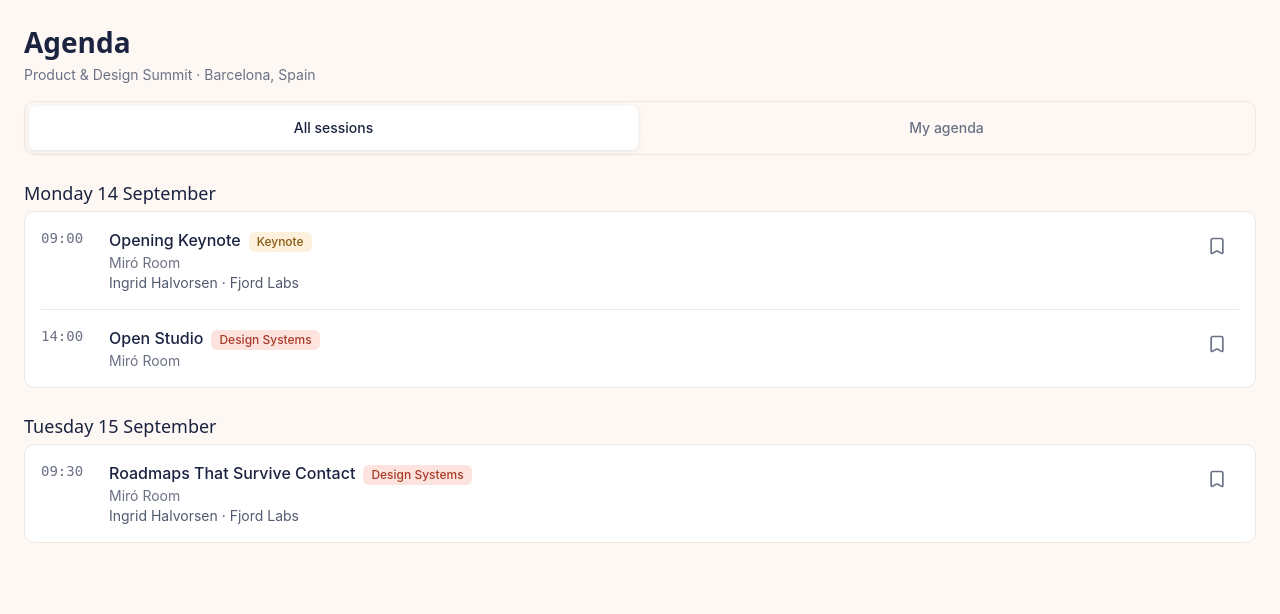
Scenario: a failed note write › DISTINGUISHES no connection from a server fault (FR-218)
This screenshot has width=1280, height=614.
Click the link "Opening Keynote": (175, 240) [109,230,241,250]
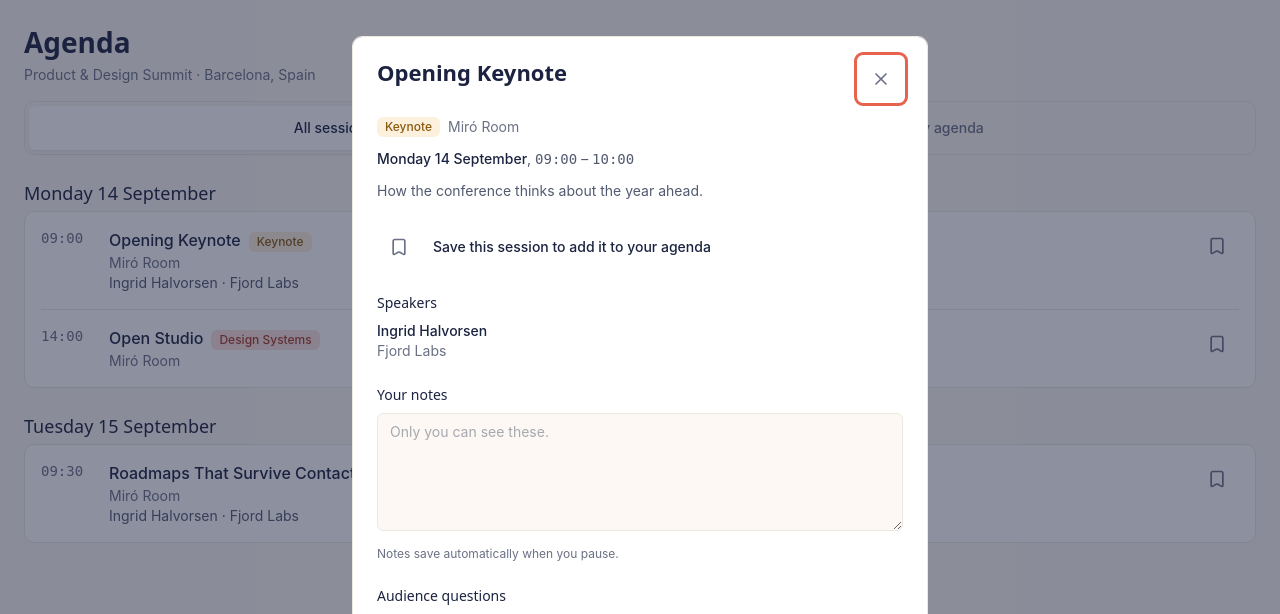
Now the heading "Opening Keynote" is shown, box [377,57,567,88]
In the text box named "private notes": (640, 472) [377,413,903,531], type "Something worth keeping."
Wait 1300 ms
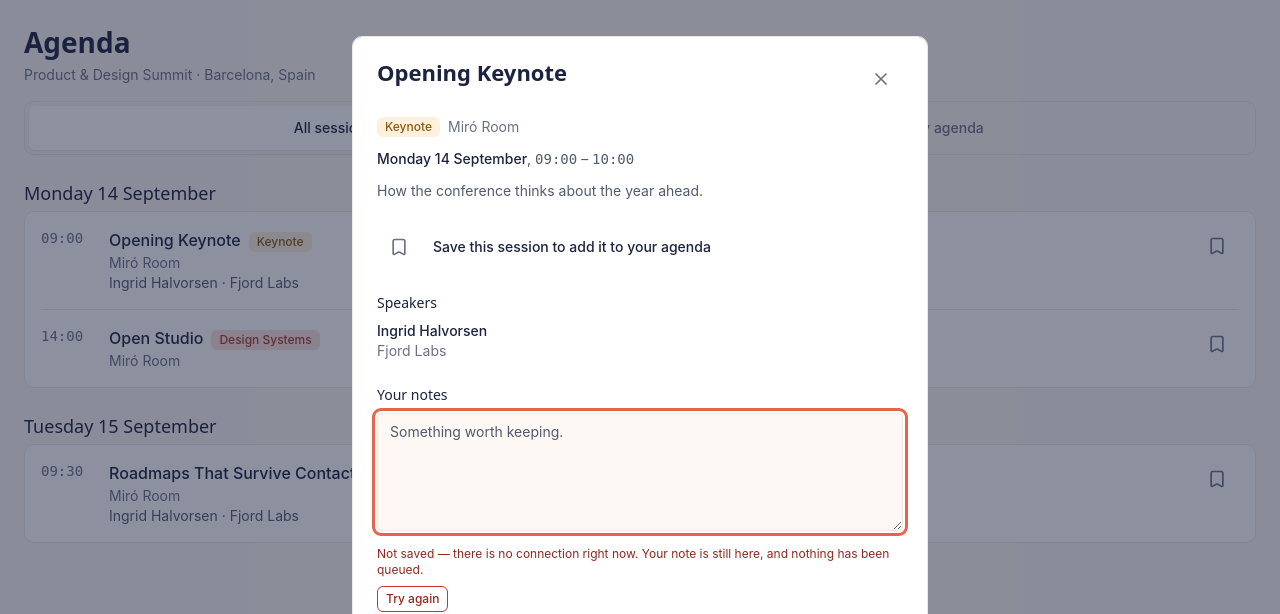
Expected: the message does not show "our side", [377,546,903,612]
Now the message is shown, box [377,546,903,612]
Now the message shows "no connection", box [377,546,889,577]
